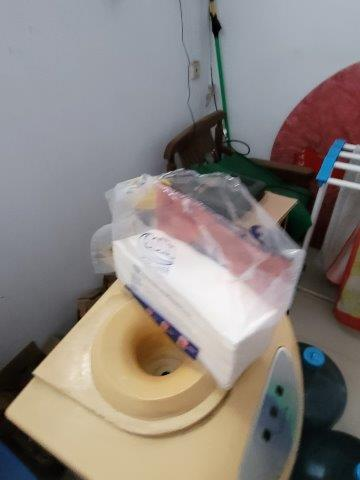plastik: (102, 172, 305, 317)
